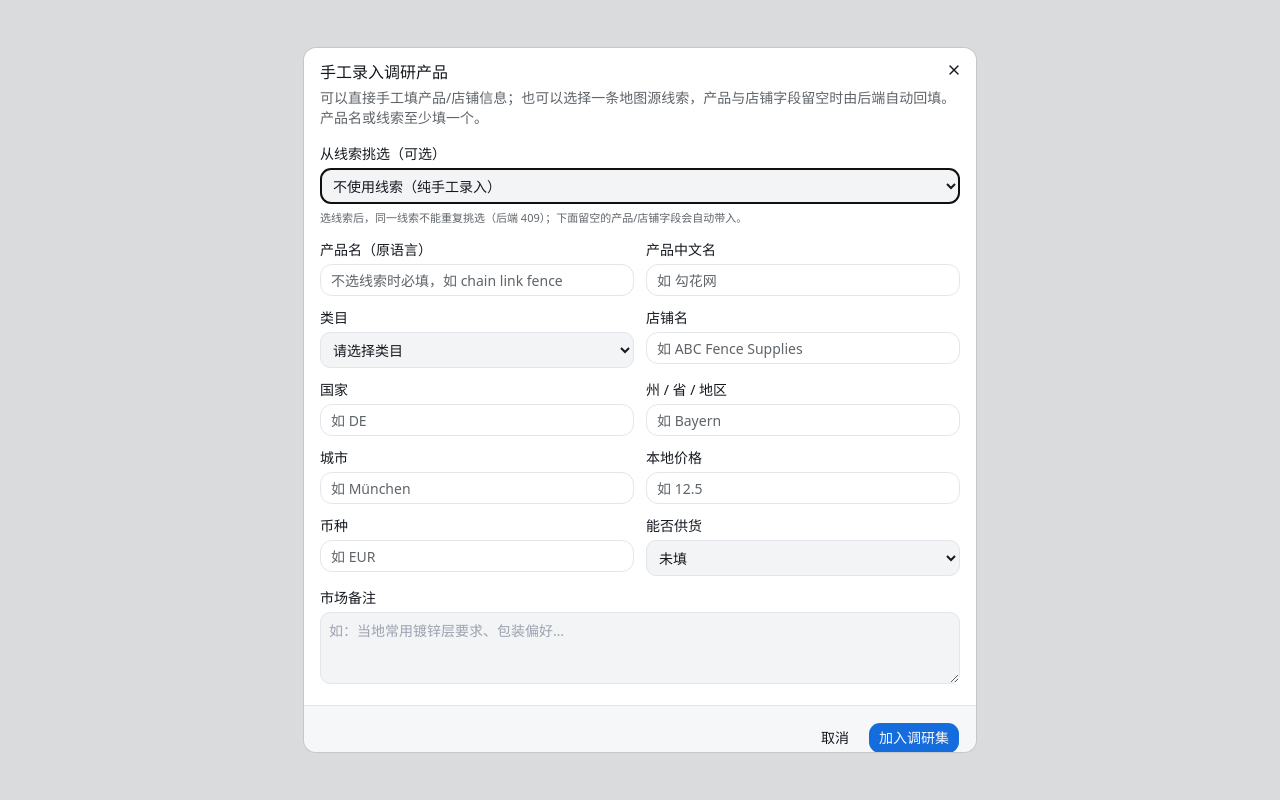
Test: ManualResearchDialog › 409 ALREADY_PICKED：透出 research_id 专属文案，弹窗不关闭
The width and height of the screenshot is (1280, 800).
Select "ABC Fence · chain link fence（DE）" in the dropdown named "从线索挑选" at [640, 186], box [320, 168, 960, 204]
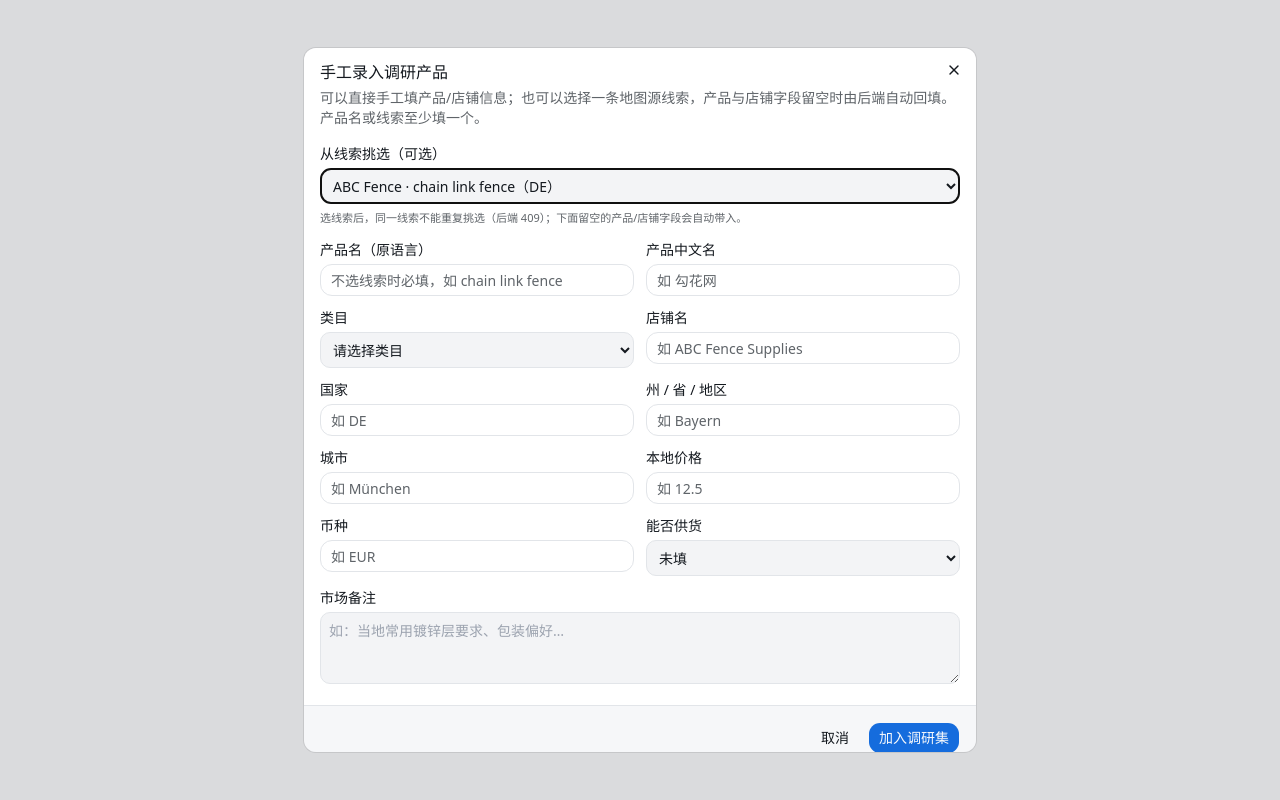
Click the button "加入调研集".
click(914, 738)  # box [868, 722, 960, 754]
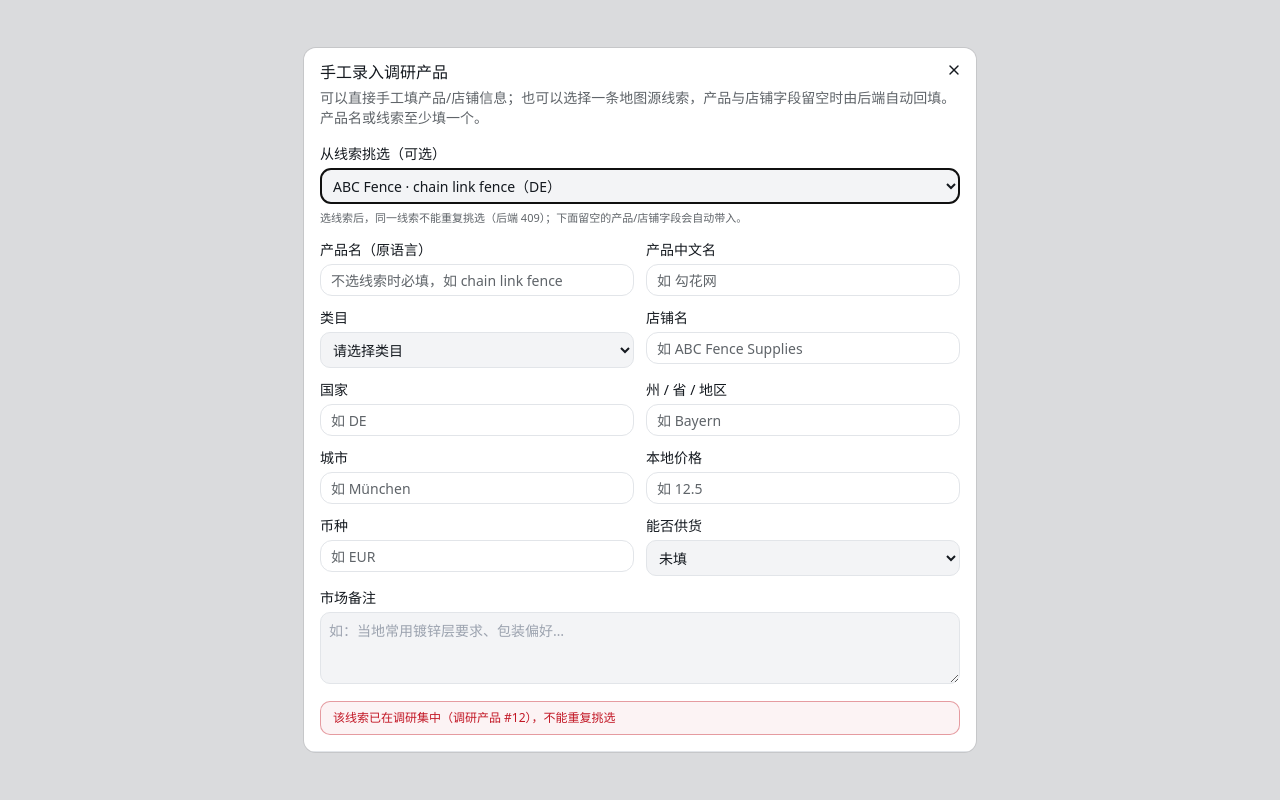
Result: the text "该线索已在调研集中（调研产品 #12），不能重复挑选" is shown at [320, 701, 960, 735]
